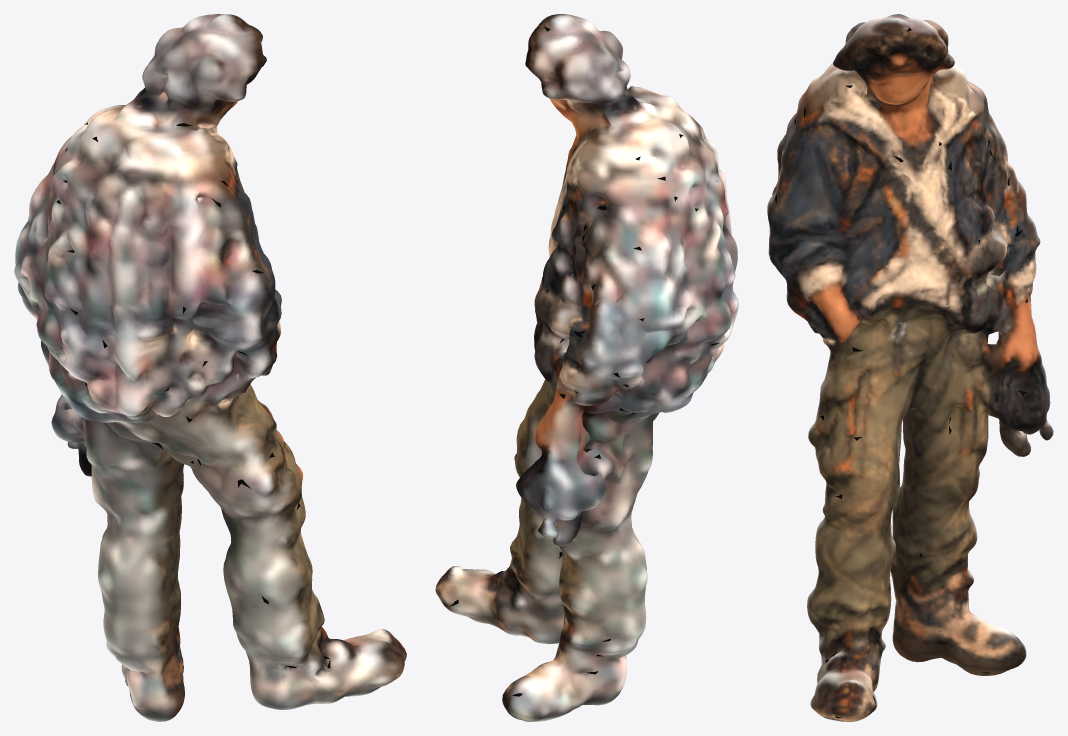
Rendered from source-13.glb.
3 renders of one model, left to right at view 1: azimuth 30°, elevation 25°; view 2: azimuth 150°, elevation 25°; view 3: azimuth 270°, elevation 25°, orthographic. The views are drawn at different scales.
Visible parts, largest first — view 1: source-13; view 2: source-13; view 3: source-13.
Boxes of the visible parts, <box> form: source-13: <box>14,14,406,721</box>; source-13: <box>435,14,738,721</box>; source-13: <box>767,14,1053,721</box>.
Bounding box in the file's own units: 0.9948 × 2 × 0.7803.
Materials: 1 (1 with a texture image).
